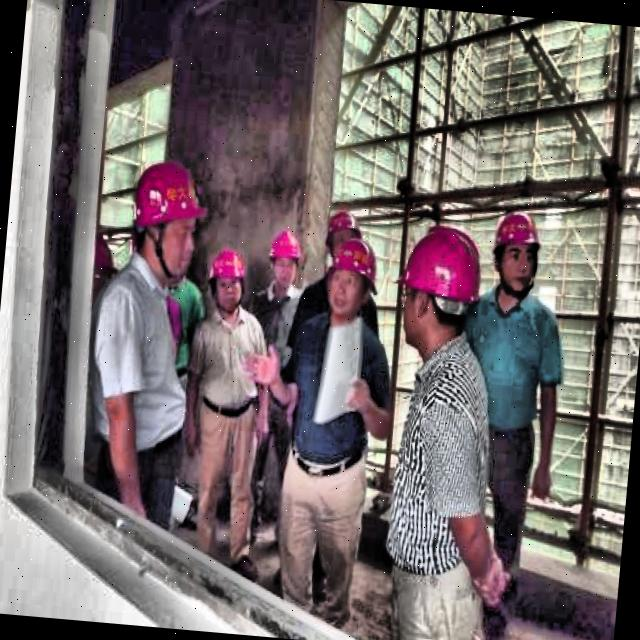helmet: (392, 220, 492, 360), (133, 158, 208, 278), (318, 225, 380, 318), (485, 206, 547, 296), (201, 244, 249, 316), (262, 222, 306, 294), (321, 205, 362, 269)
